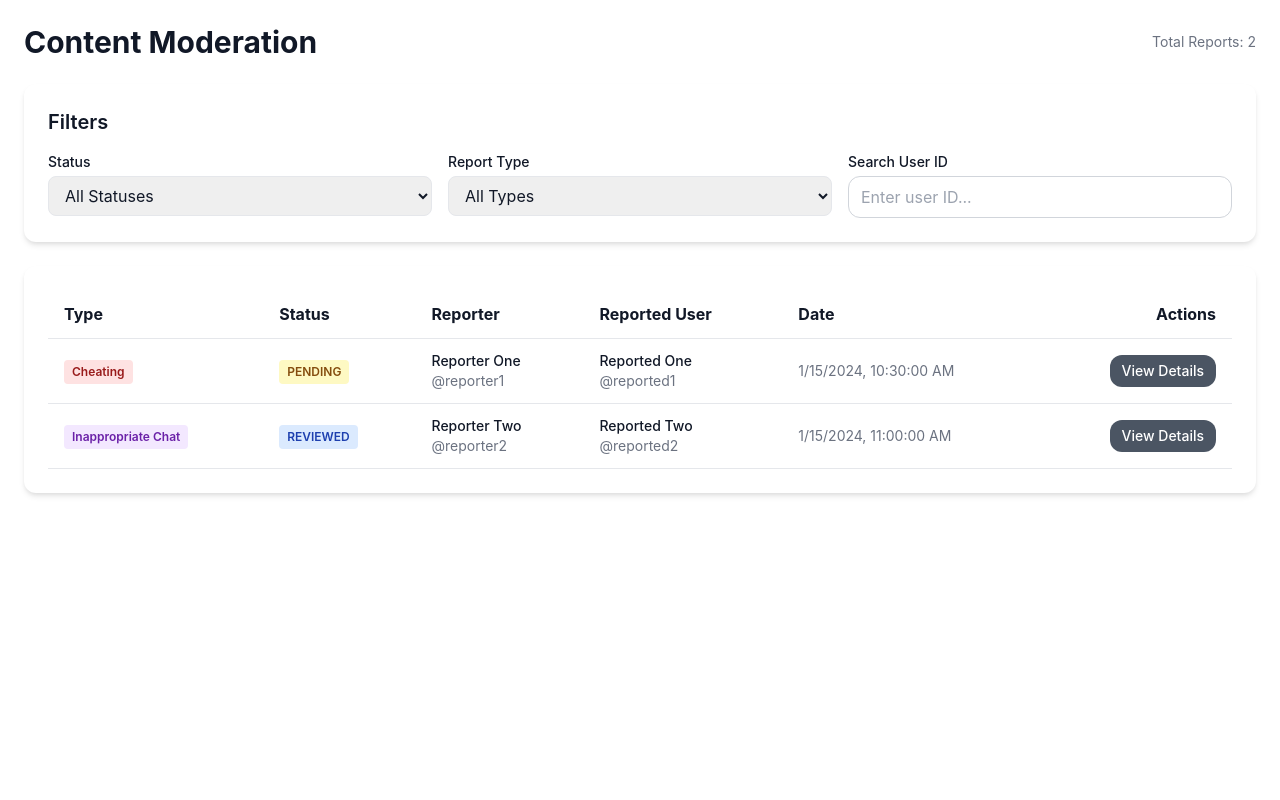
Test: ModerationPage › fetches and displays chat logs for chat reports
expect the text "Reporter Two" is shown: met, box [432, 417, 522, 434]
Click the button "View Details" in the row of "Inappropriate Chat". click: (1163, 436)
box: [1110, 420, 1216, 452]
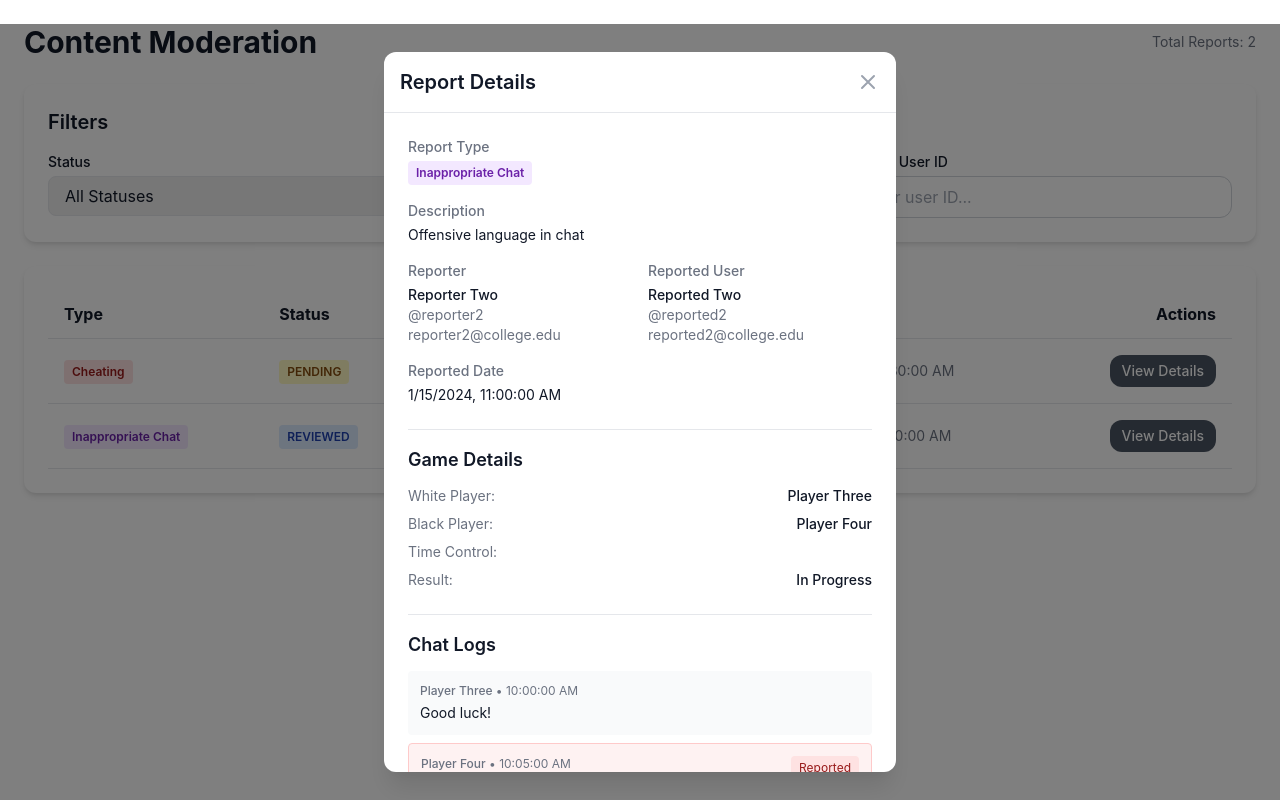
expect the heading "Chat Logs" is shown: met, box [408, 634, 496, 655]
expect the text "Good luck!" is shown: met, box [420, 704, 491, 721]
